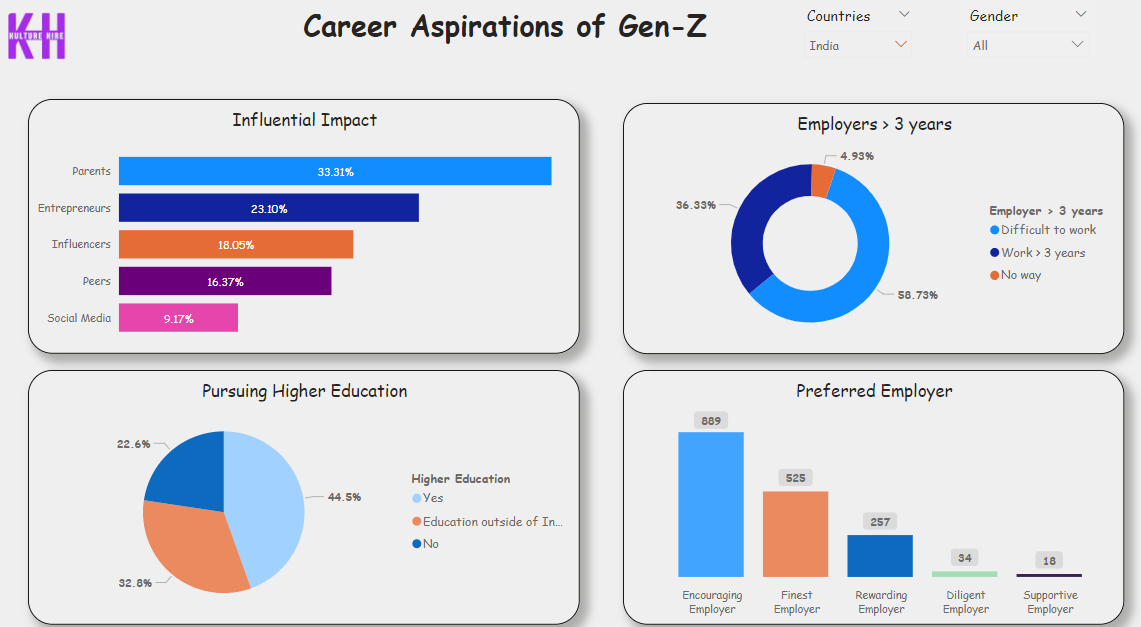

Layout of this report page (visuals, bound fields, positions):
{"tool":"powerbi","page":{"name":"Page 1","canvas":[1280,720],"ordinal":0},"visuals":[{"type":"textbox","box":[323.3,0,482.2,74.4],"z":0},{"type":"donutChart","title":"Employers > 3 years ","fields":{"Y":["CountNonNull(Sheet1.How likely is that you will work for one employer for 3 years or more ?)"],"Category":["Sheet1.How likely is that you will work for one employer for 3 years or more ?"]},"box":[695.3,114,557,279.1],"z":1000},{"type":"barChart","title":"Influential Impact ","fields":{"Category":["Sheet1.Career Aspirations"],"Y":["CountNonNull(Sheet1.Career Aspirations)"],"Series":["Sheet1.Career Aspirations"]},"box":[34.9,110.5,612.8,282.6],"z":2000},{"type":"columnChart","title":"Preferred Employer ","fields":{"Y":["CountNonNull(Sheet1.Employers who you really want to work)"],"Category":["Sheet1.Employers who you really want to work"]},"box":[695.3,411.6,557,282.6],"z":3000},{"type":"pieChart","title":"Pursuing Higher Education ","fields":{"Category":["Sheet1.Higher Education "],"Y":["CountNonNull(Sheet1.Higher Education )"]},"box":[34.9,411.6,612.8,282.6],"z":4000},{"type":"slicer","fields":{"Values":["Sheet1.Countries"]},"box":[886.5,0,140.4,74.2],"z":5000},{"type":"slicer","fields":{"Values":["Sheet1.Gender"]},"box":[1067.8,0,155.6,66.7],"z":6000},{"type":"image","box":[0,0,86.7,80],"z":7001}]}

Visuals, with their boxes in screenshot pixels (x1, y1, x2, y2), scaled from the page's 1280x720 canvas onto the 1141x627 screenshot:
textbox: <bbox>288, 0, 718, 65</bbox>
"Employers > 3 years " donutChart: <bbox>620, 99, 1116, 342</bbox>
"Influential Impact " barChart: <bbox>31, 96, 577, 342</bbox>
"Preferred Employer " columnChart: <bbox>620, 358, 1116, 605</bbox>
"Pursuing Higher Education " pieChart: <bbox>31, 358, 577, 605</bbox>
slicer - Sheet1.Countries: <bbox>790, 0, 915, 65</bbox>
slicer - Sheet1.Gender: <bbox>952, 0, 1091, 58</bbox>
image: <bbox>0, 0, 77, 70</bbox>
